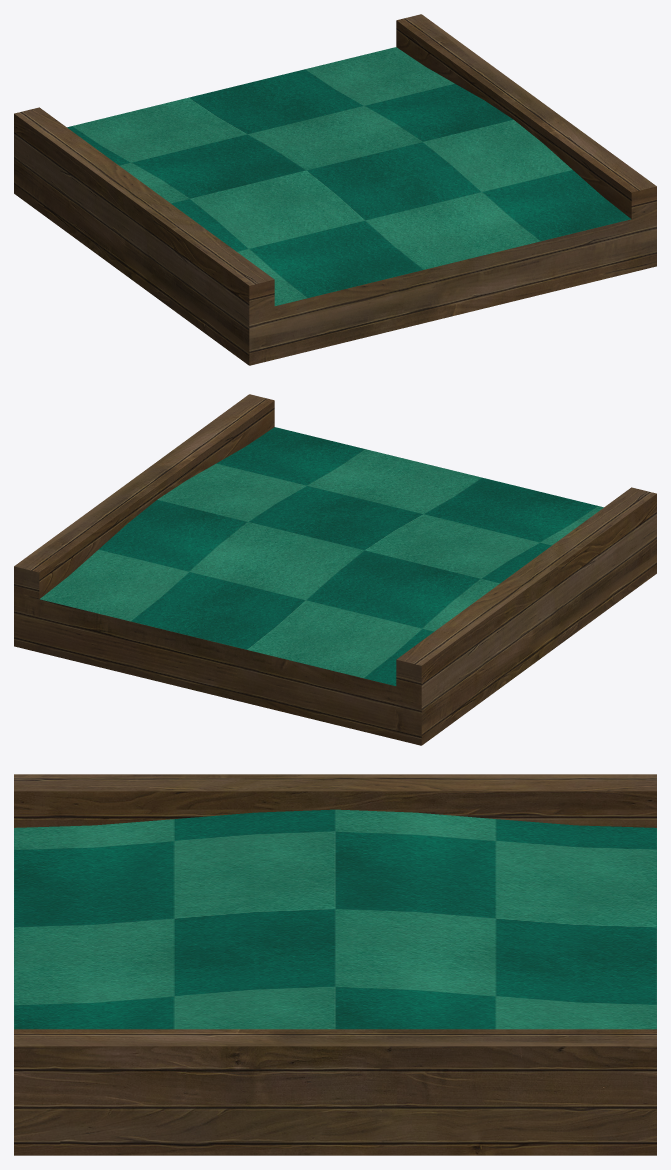
Rendered from PartWave.gltf.
3 views of the same model, one above another, from view 1: azimuth 30°, elevation 25°; view 2: azimuth 150°, elevation 25°; view 3: azimuth 270°, elevation 25° (orthographic). The views are drawn at different scales.
Parts seen in each view (by area): view 1: PartWave_grass_glb, PartWave_glb; view 2: PartWave_grass_glb, PartWave_glb; view 3: PartWave_grass_glb, PartWave_glb.
Boxes of the visible parts, bbox=[...] form: PartWave_grass_glb: bbox=[67, 47, 630, 305]; PartWave_glb: bbox=[14, 14, 656, 365]; PartWave_grass_glb: bbox=[40, 427, 603, 685]; PartWave_glb: bbox=[14, 394, 656, 745]; PartWave_grass_glb: bbox=[14, 809, 656, 1029]; PartWave_glb: bbox=[14, 774, 656, 1155].
Size of what is drawn, in the model's own units: 4 by 0.75 by 4.
Materials: 2 (2 with a texture image).
